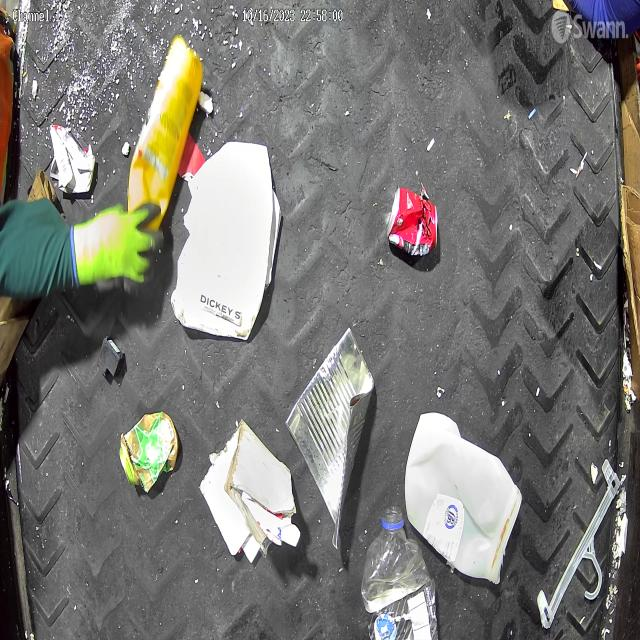can: (387, 186, 438, 258)
milk_jug: (404, 411, 522, 584)
non_white_jug: (128, 35, 203, 228)
plastic_bottle: (361, 503, 438, 640)
